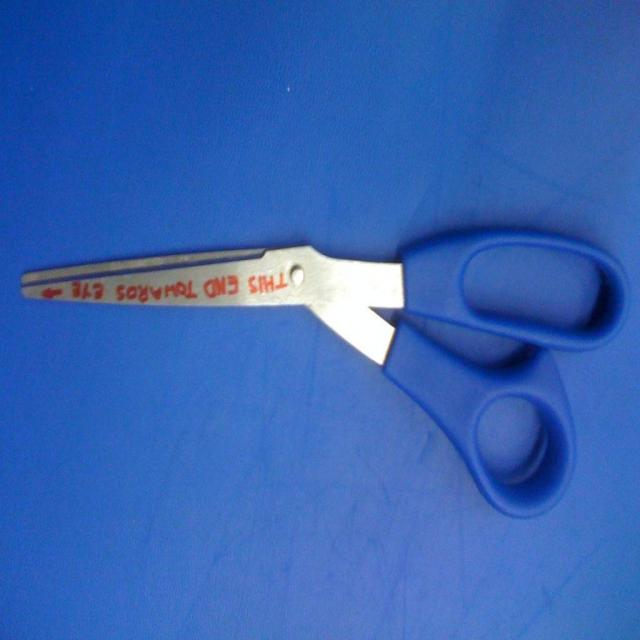scissor: (20, 224, 630, 523)
